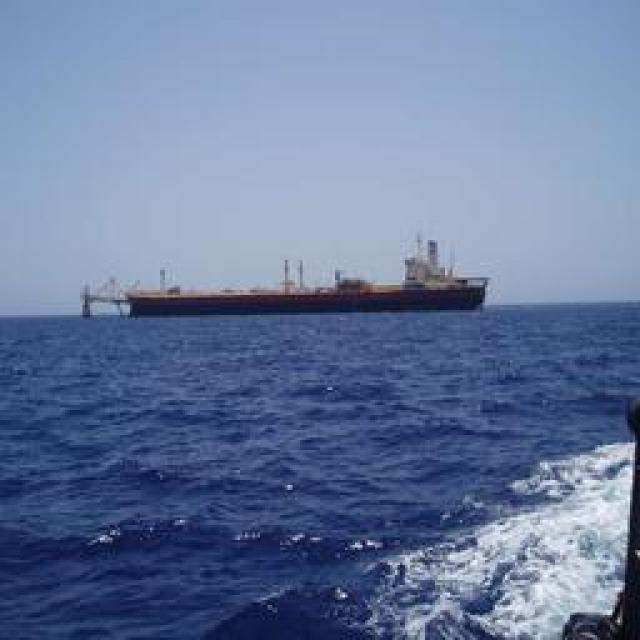CIV_Ship: (96, 241, 484, 314)
